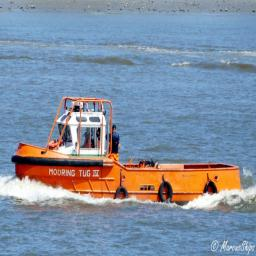tugboat: (11, 89, 245, 211)
